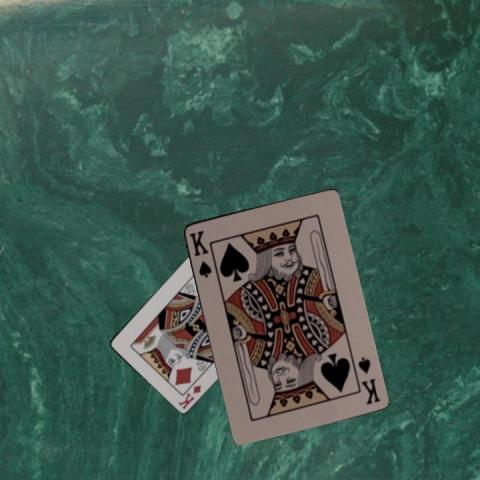Kd: (175, 381, 203, 411)
Ks: (186, 227, 213, 279), (354, 354, 381, 406)
